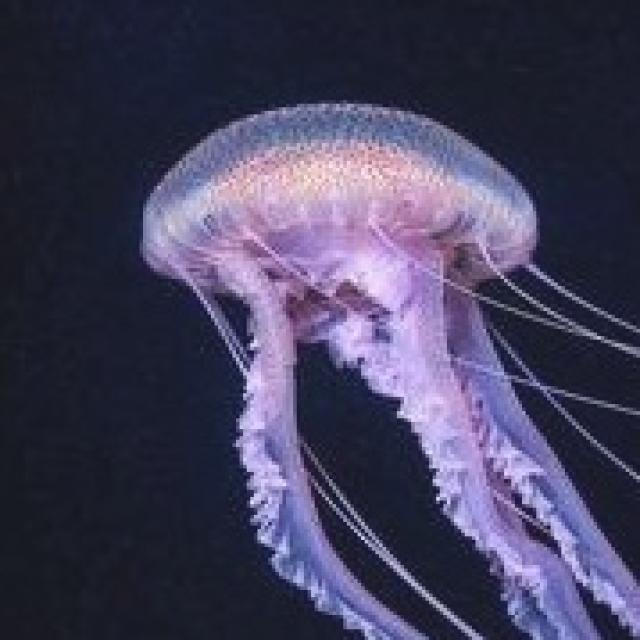Jellyfish: (136, 96, 636, 636)
